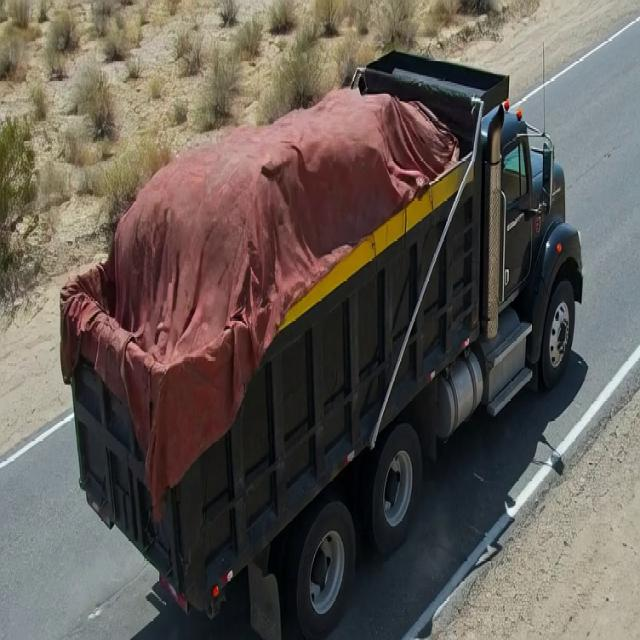Box: (59, 61, 518, 388)
Truck: (56, 40, 578, 612)
